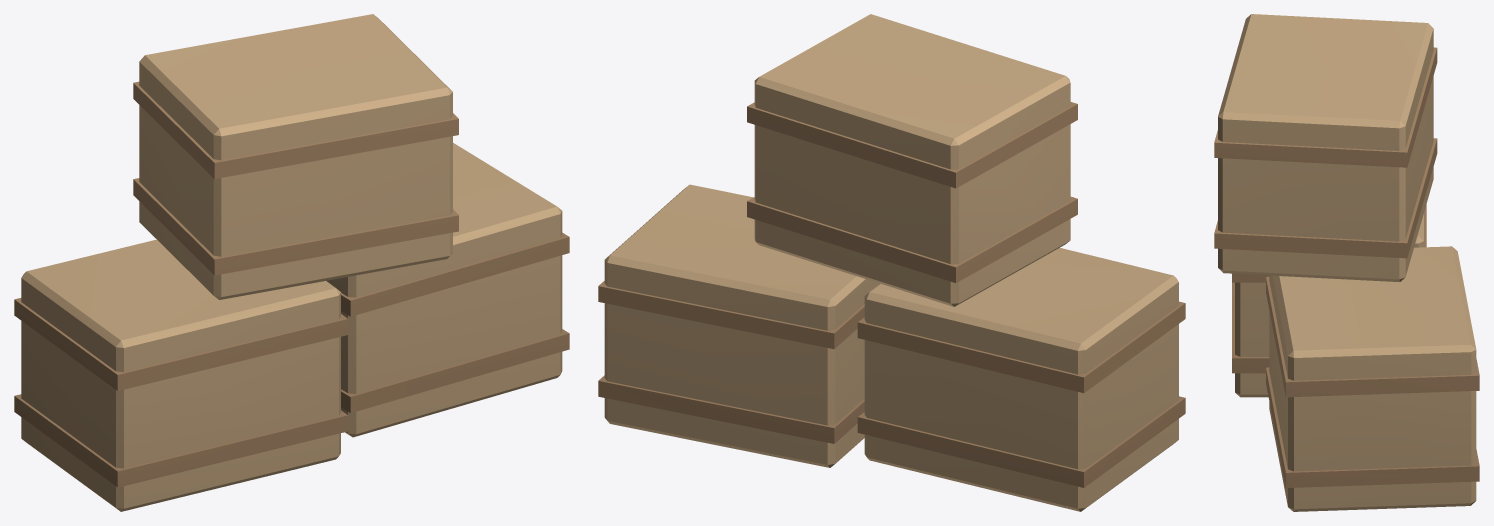
The model's file is crates.glb.
3 views of the same model, side by side, from view 1: azimuth 30°, elevation 25°; view 2: azimuth 150°, elevation 25°; view 3: azimuth 270°, elevation 25° (orthographic). The views are drawn at different scales.
Parts seen in each view (by area): view 1: crates; view 2: crates; view 3: crates.
Part boxes in pixels (bbox=[...]): crates: bbox=[14, 14, 569, 511]; crates: bbox=[598, 14, 1185, 511]; crates: bbox=[1214, 14, 1479, 511].
Bounding box in the file's own units: 0.9385 × 0.66 × 0.4778.
